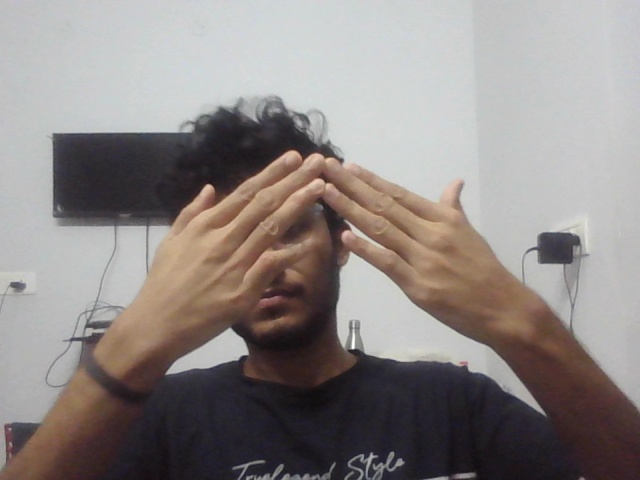Thanks: (117, 124, 546, 399)
